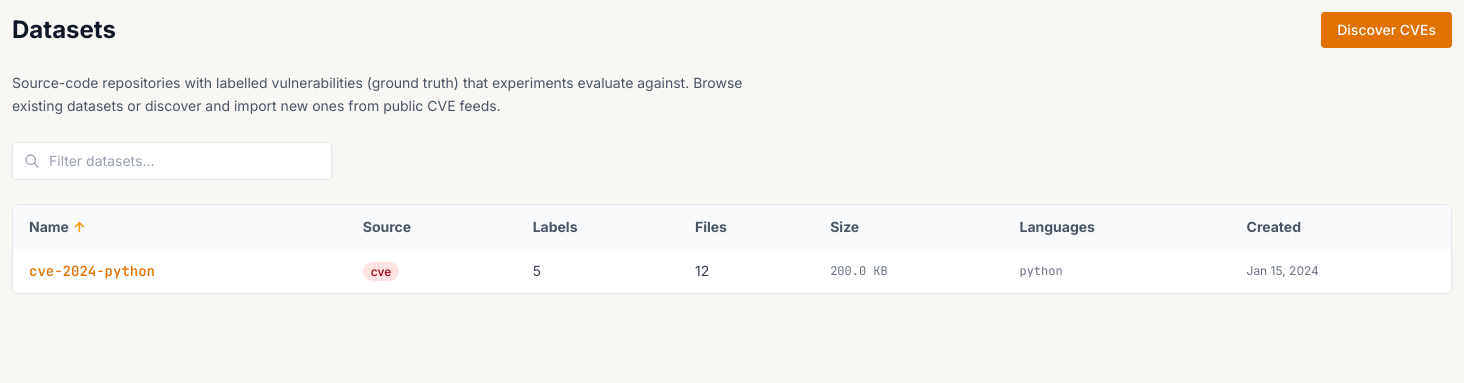
Scenario: Datasets — filter interaction › shows "No datasets match" message when filter has no results
Expected: the text "cve-2024-python" is shown, [13, 248, 347, 292]
Step 1. Type "zzz-no-match" into the field with placeholder "Filter datasets…" → (172, 160), box [12, 142, 332, 180]
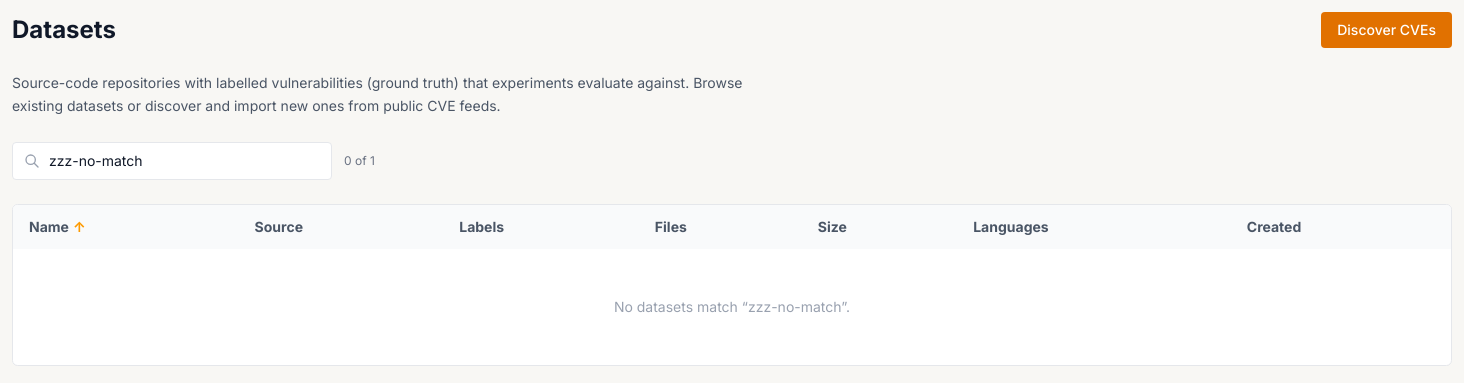
Now the text "No datasets match “zzz-no-match”." is shown, box [13, 248, 1451, 364]
